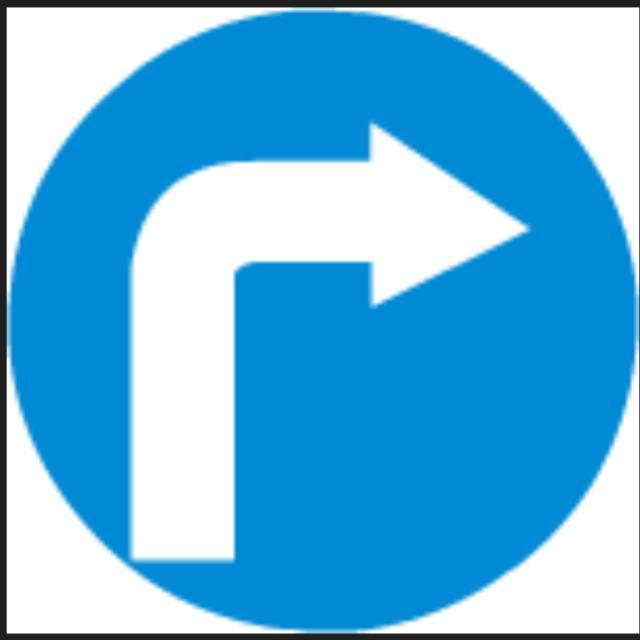compulsary turn right ahead: (28, 25, 621, 614)
